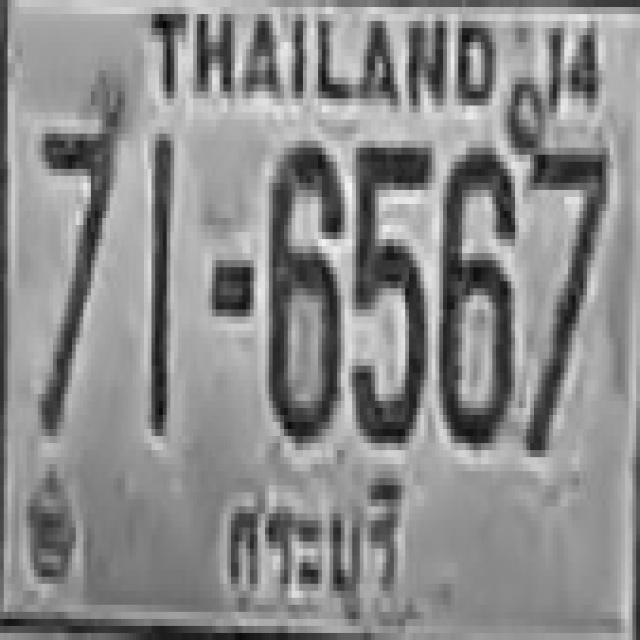1: (148, 130, 170, 426)
5: (348, 137, 428, 440)
6: (265, 134, 341, 436), (438, 137, 513, 440)
7: (36, 70, 127, 429), (523, 134, 606, 450)
SRI: (218, 451, 406, 626)
